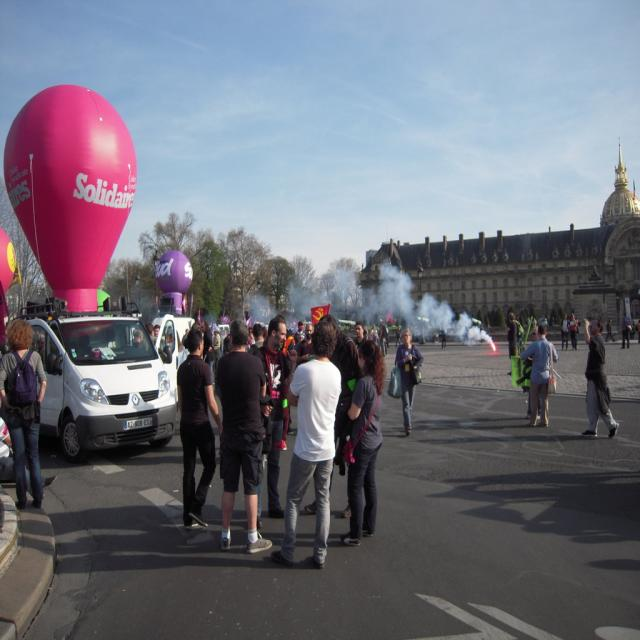car: (14, 304, 171, 464)
